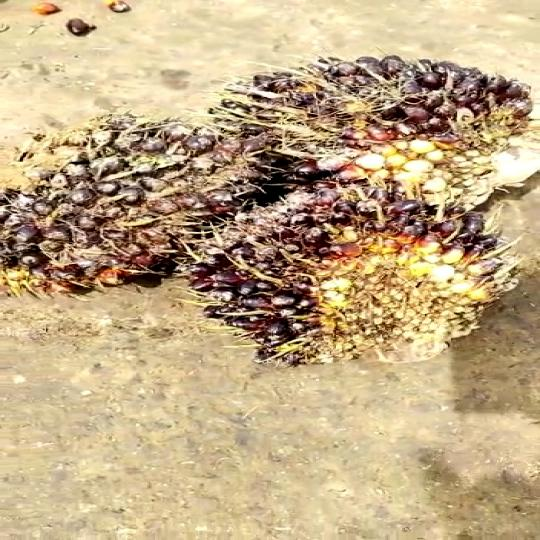mentah: (180, 186, 528, 368), (0, 108, 259, 297), (216, 56, 540, 203)
